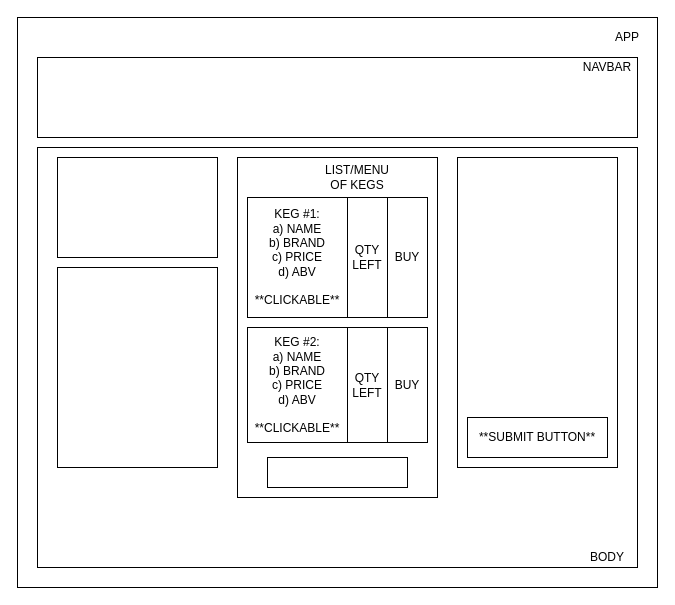
The diagram is 675 pixels wide and 605 high, and some of its shapes have lost their labels. Here are the shapes that lost their labels. From the top down, the box of each, then its label:
(56, 156, 218, 258): LOCATION + CONTACT
(456, 156, 618, 468): NEW KEG FORM
(56, 266, 218, 468): TAP ROOM INFORMATION
(266, 456, 408, 488): **ADD KEG BUTTON**
